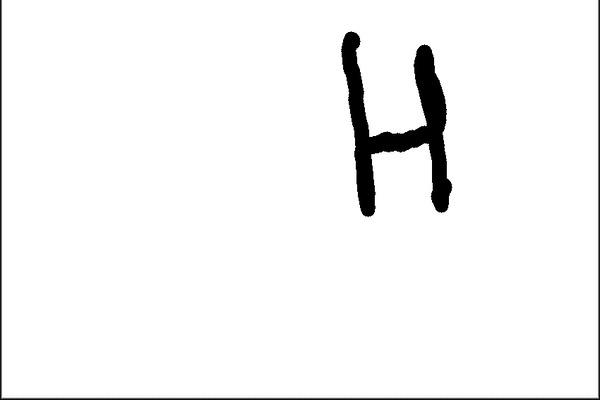H: (331, 22, 455, 224)
